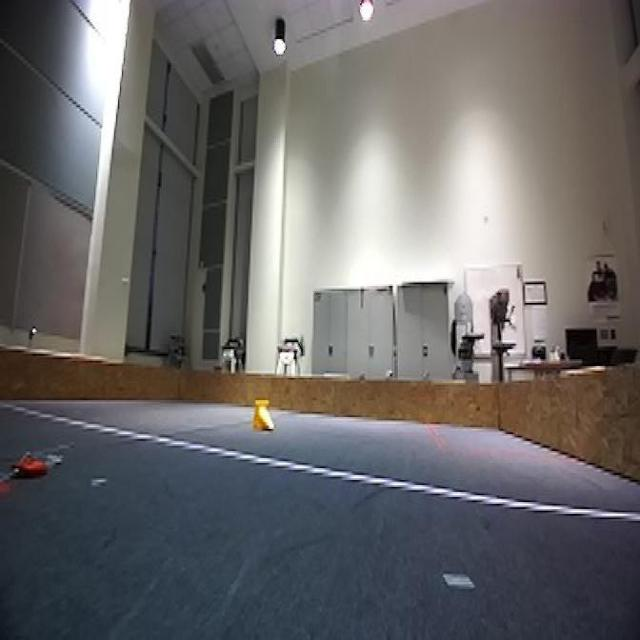frc_cone: (253, 398, 276, 432)
